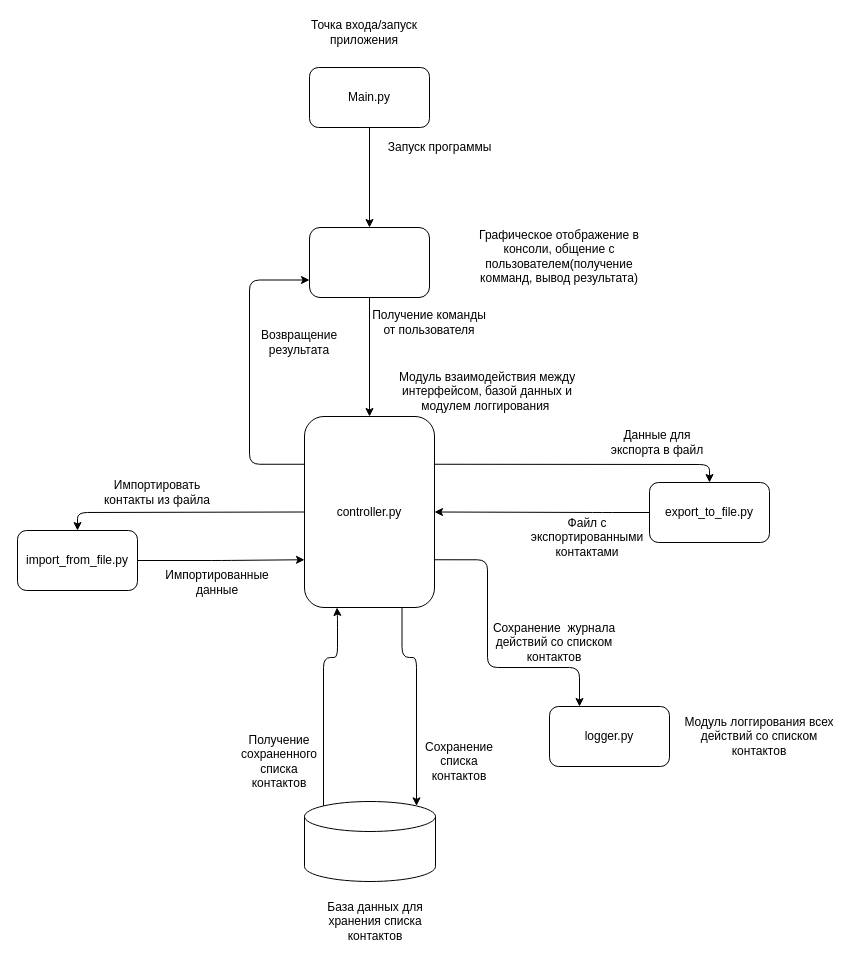
This 857x968 diagram has some shape labels left out. Each missing label, with the centre of its shape:
"db.py" goes at (x=370, y=841).
"interface.py" goes at (x=369, y=262).
